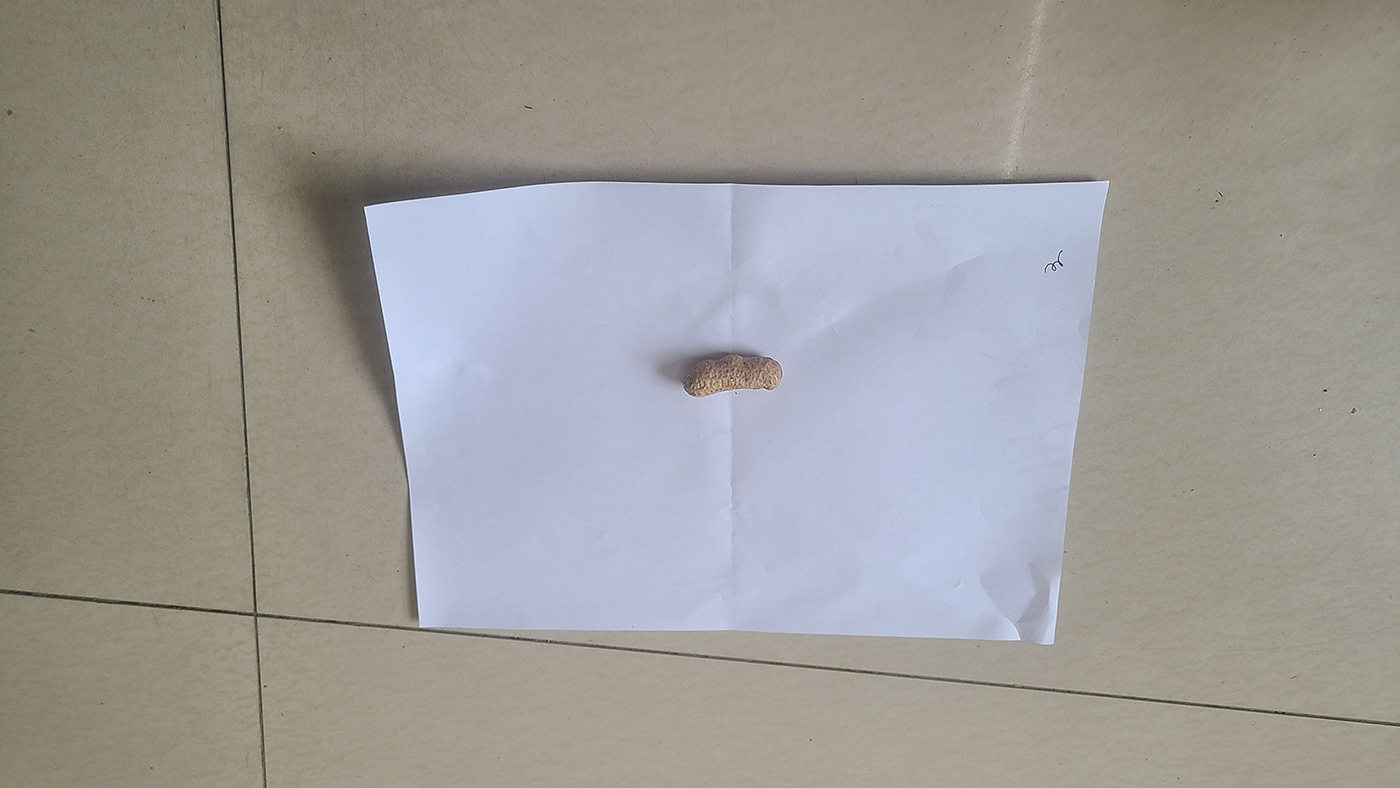h: (683, 351, 784, 401)
